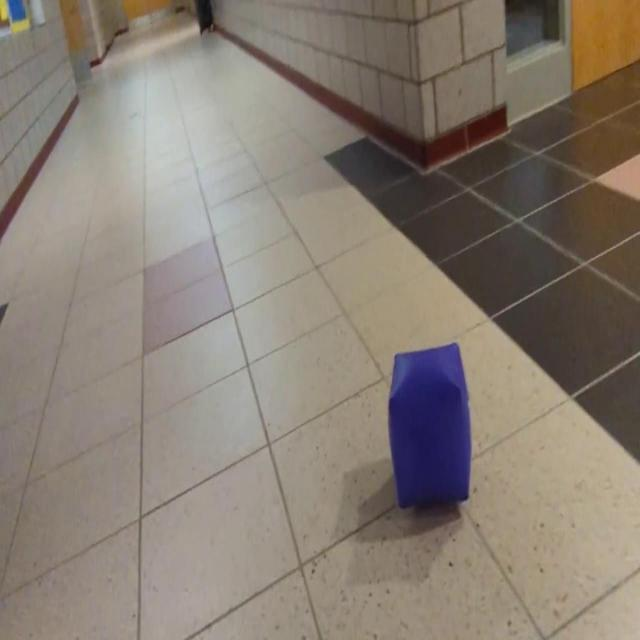frc_cube: (388, 341, 472, 506)
